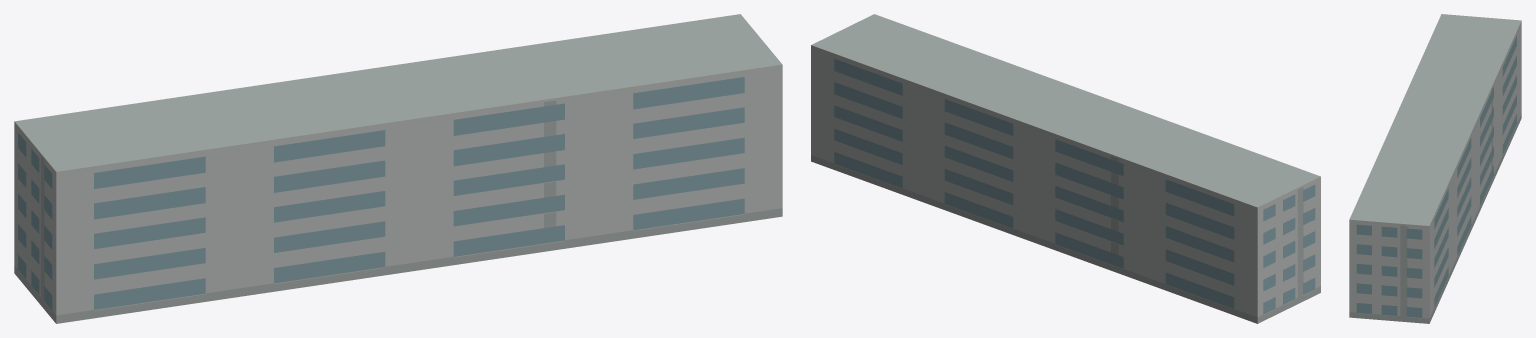
Rendered from residential-035b8efe-e8f7-4abb-814d-971e6ce99417.glb.
The picture shows the model from 3 angles, left to right: view 1: azimuth 30°, elevation 25°; view 2: azimuth 150°, elevation 25°; view 3: azimuth 270°, elevation 25°; orthographic projection. The views are drawn at different scales.
Parts seen in each view (by area): view 1: residential-035b8efe-e8f7-4abb-814d-971e6ce99417.tmp; view 2: residential-035b8efe-e8f7-4abb-814d-971e6ce99417.tmp; view 3: residential-035b8efe-e8f7-4abb-814d-971e6ce99417.tmp.
Boxes of the visible parts, x1,y1,x2,y2 form: residential-035b8efe-e8f7-4abb-814d-971e6ce99417.tmp: [14, 14, 782, 323]; residential-035b8efe-e8f7-4abb-814d-971e6ce99417.tmp: [811, 14, 1320, 323]; residential-035b8efe-e8f7-4abb-814d-971e6ce99417.tmp: [1349, 14, 1521, 323].
Size of the model in its own units: 70.87 by 15.25 by 24.35.
